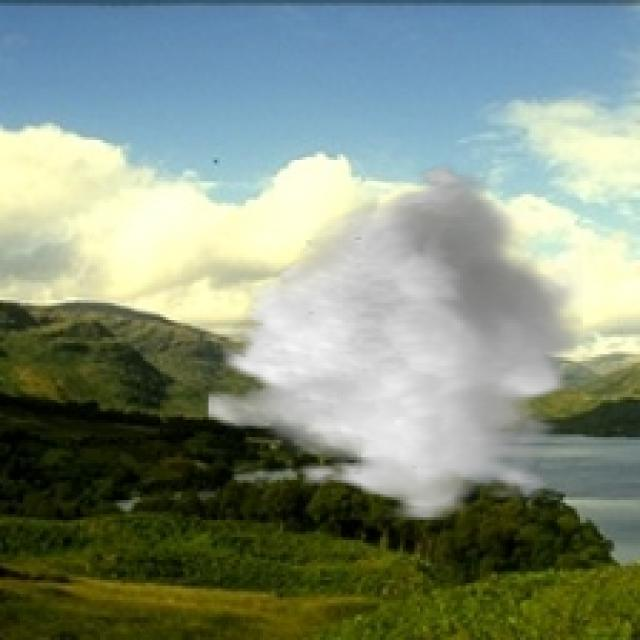smoke: (206, 157, 583, 520)
